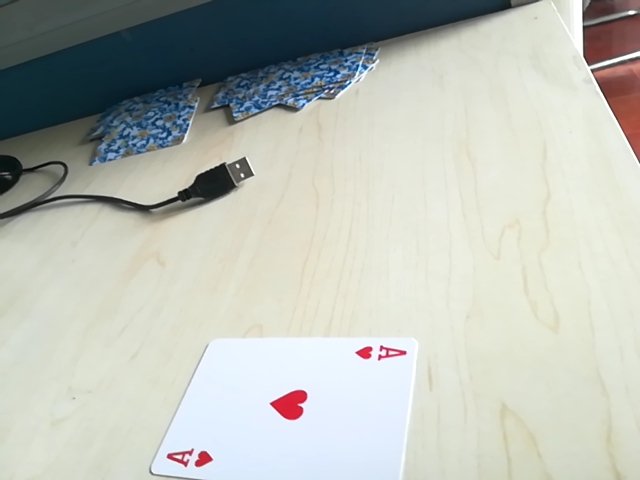hx a: (349, 337, 412, 369), (155, 446, 218, 474)
